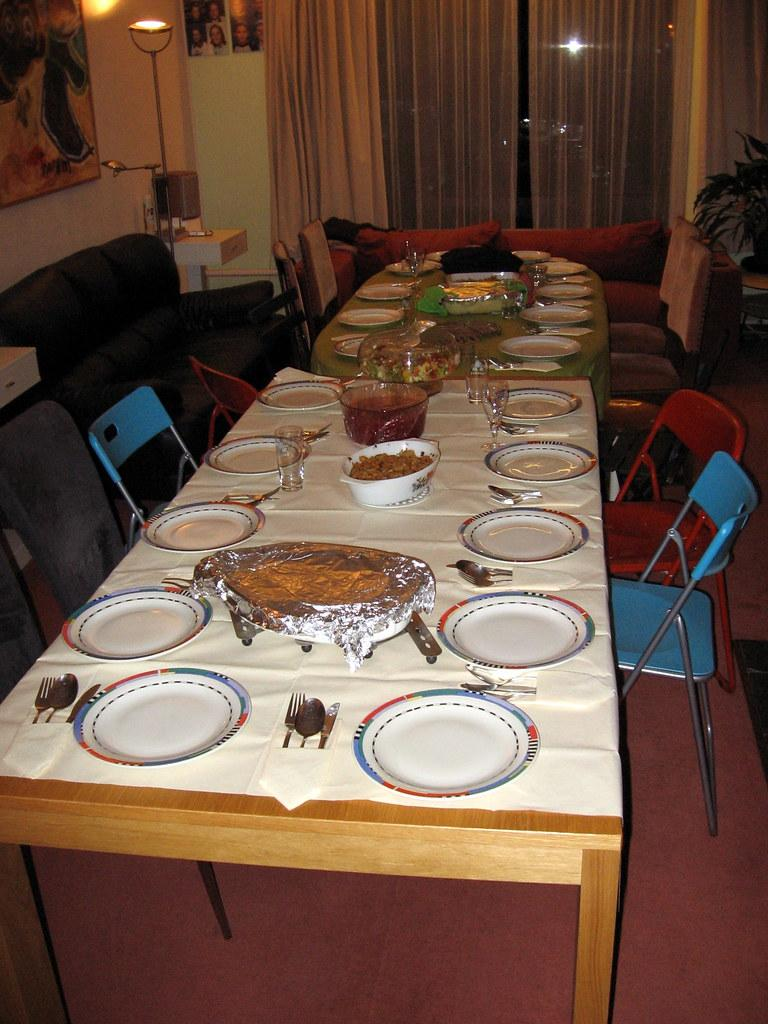table: (1, 192, 647, 1024)
